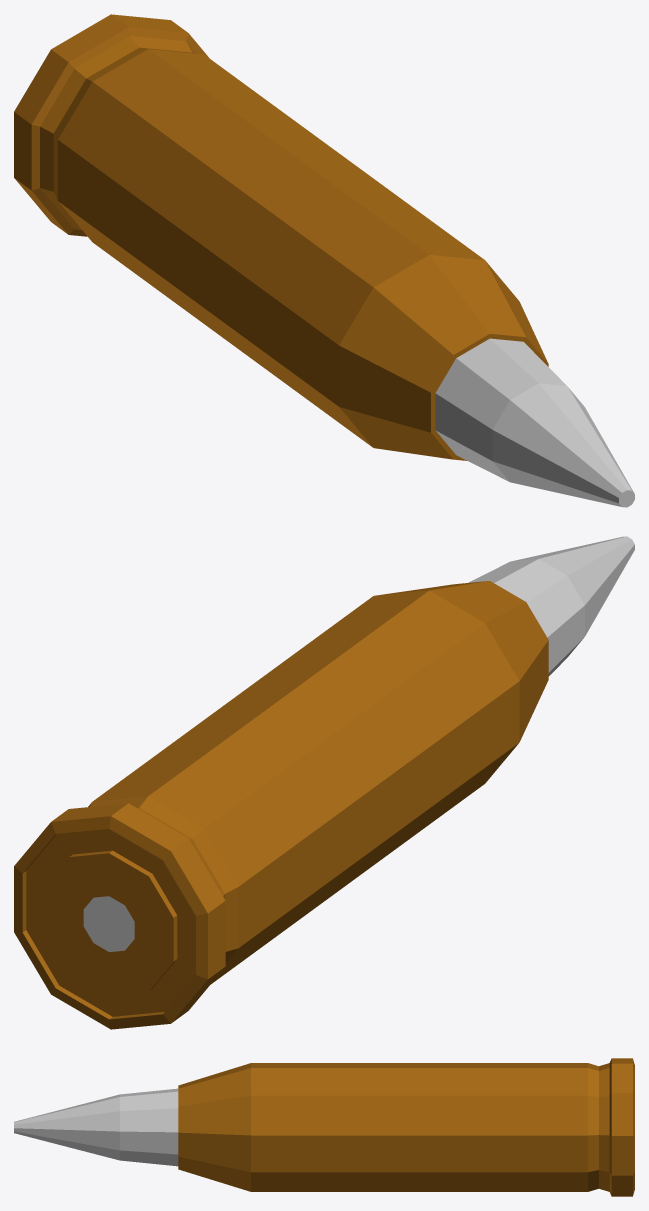
Rendered from BulletRifle.fbx.
3 views of the same model, one above another, from view 1: azimuth 30°, elevation 25°; view 2: azimuth 150°, elevation 25°; view 3: azimuth 270°, elevation 25° (orthographic). The views are drawn at different scales.
Visible parts, largest first — view 1: Asimov AssaultRifle Bullet; view 2: Asimov AssaultRifle Bullet; view 3: Asimov AssaultRifle Bullet.
Boxes of the visible parts, box(x1,y1,x2,y2) form: Asimov AssaultRifle Bullet: box(14, 14, 634, 507); Asimov AssaultRifle Bullet: box(14, 536, 634, 1029); Asimov AssaultRifle Bullet: box(14, 1058, 634, 1196).
Size of the model in its own units: 5.42 by 5.7 by 25.05.
